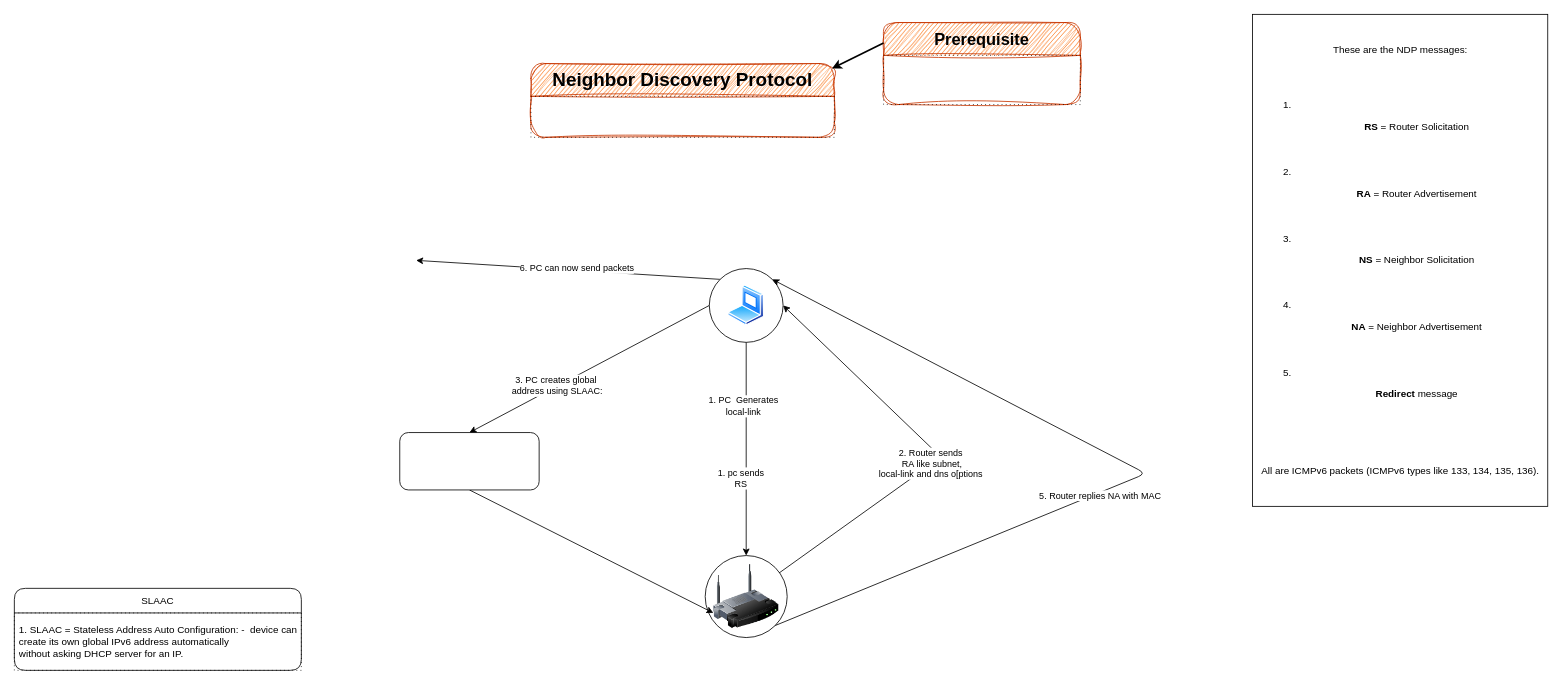
This 1562x685 diagram has some shape labels left out. Here are the shapes that lost their labels. From the top down, the centre of each, then its label:
(981,80): 1. Should know about arp packet ( arpp.svg )
(682,116): 1. NDP works using 5 main ICMPv6 message types :
(469,461): To send traffic to gateway: PC sends NS for gateway address
